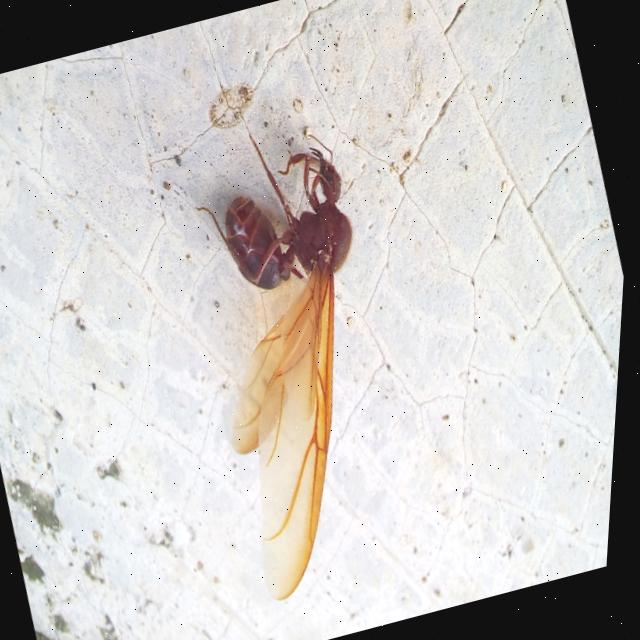Dead-Female-Alate: (151, 112, 451, 606)
